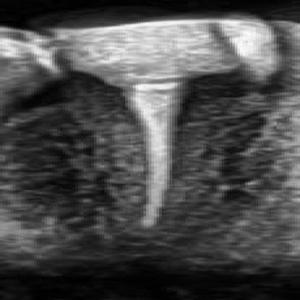tooth: (32, 15, 282, 224)
